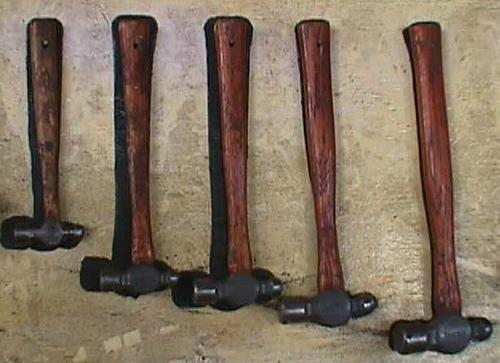hammer: (385, 17, 495, 357), (170, 14, 284, 313), (274, 16, 380, 329), (96, 10, 180, 301), (0, 14, 86, 254)
